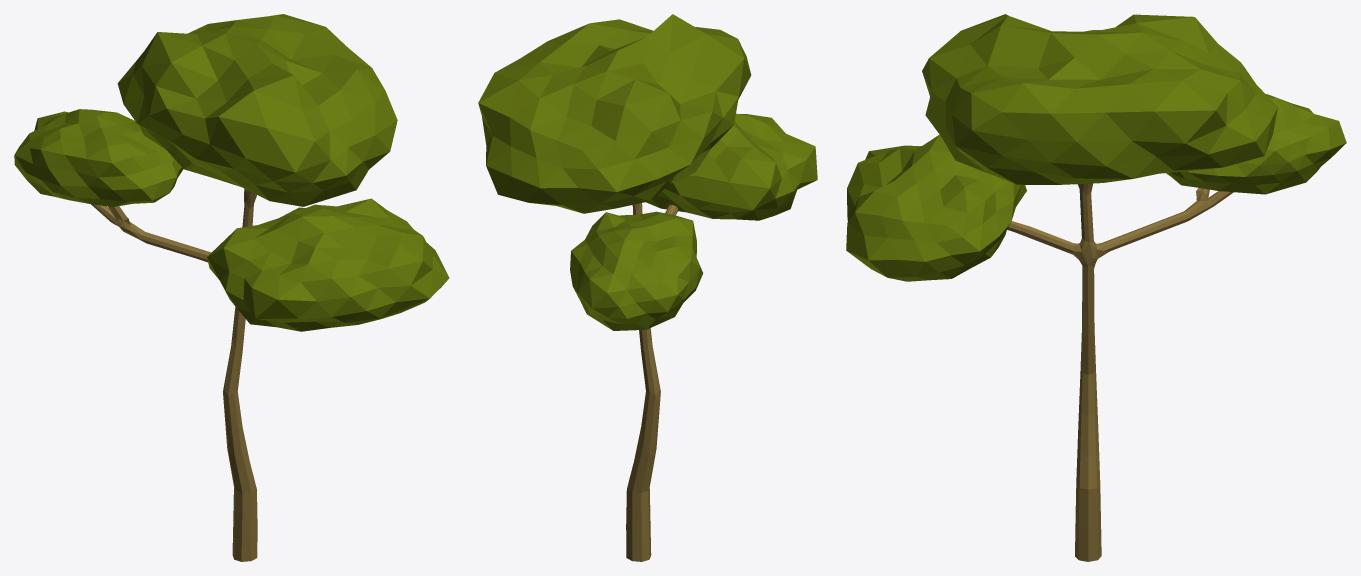
File: pine_1.glb
The picture shows the model from 3 angles, left to right: view 1: azimuth 30°, elevation 25°; view 2: azimuth 150°, elevation 25°; view 3: azimuth 270°, elevation 25°; orthographic projection. The views are drawn at different scales.
Parts seen in each view (by area): view 1: Icosphere.002; view 2: Icosphere.002; view 3: Icosphere.002.
Boxes of the visible parts, left/top/right/bottom form: Icosphere.002: left=14, top=14, right=449, bottom=561; Icosphere.002: left=478, top=14, right=817, bottom=561; Icosphere.002: left=846, top=14, right=1346, bottom=561.
Size of the model in its own units: 6.75 by 12.92 by 10.94.
